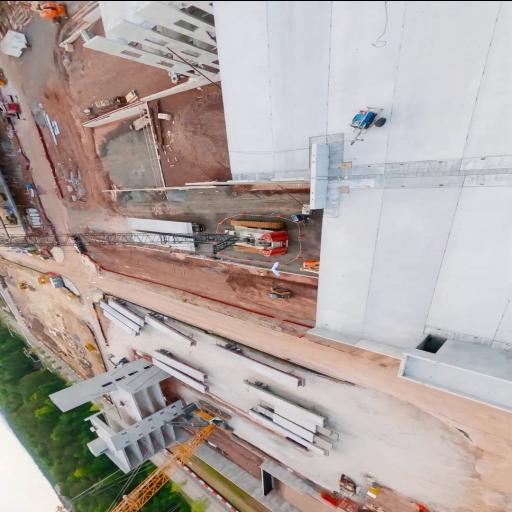uav: (270, 260, 282, 276)
